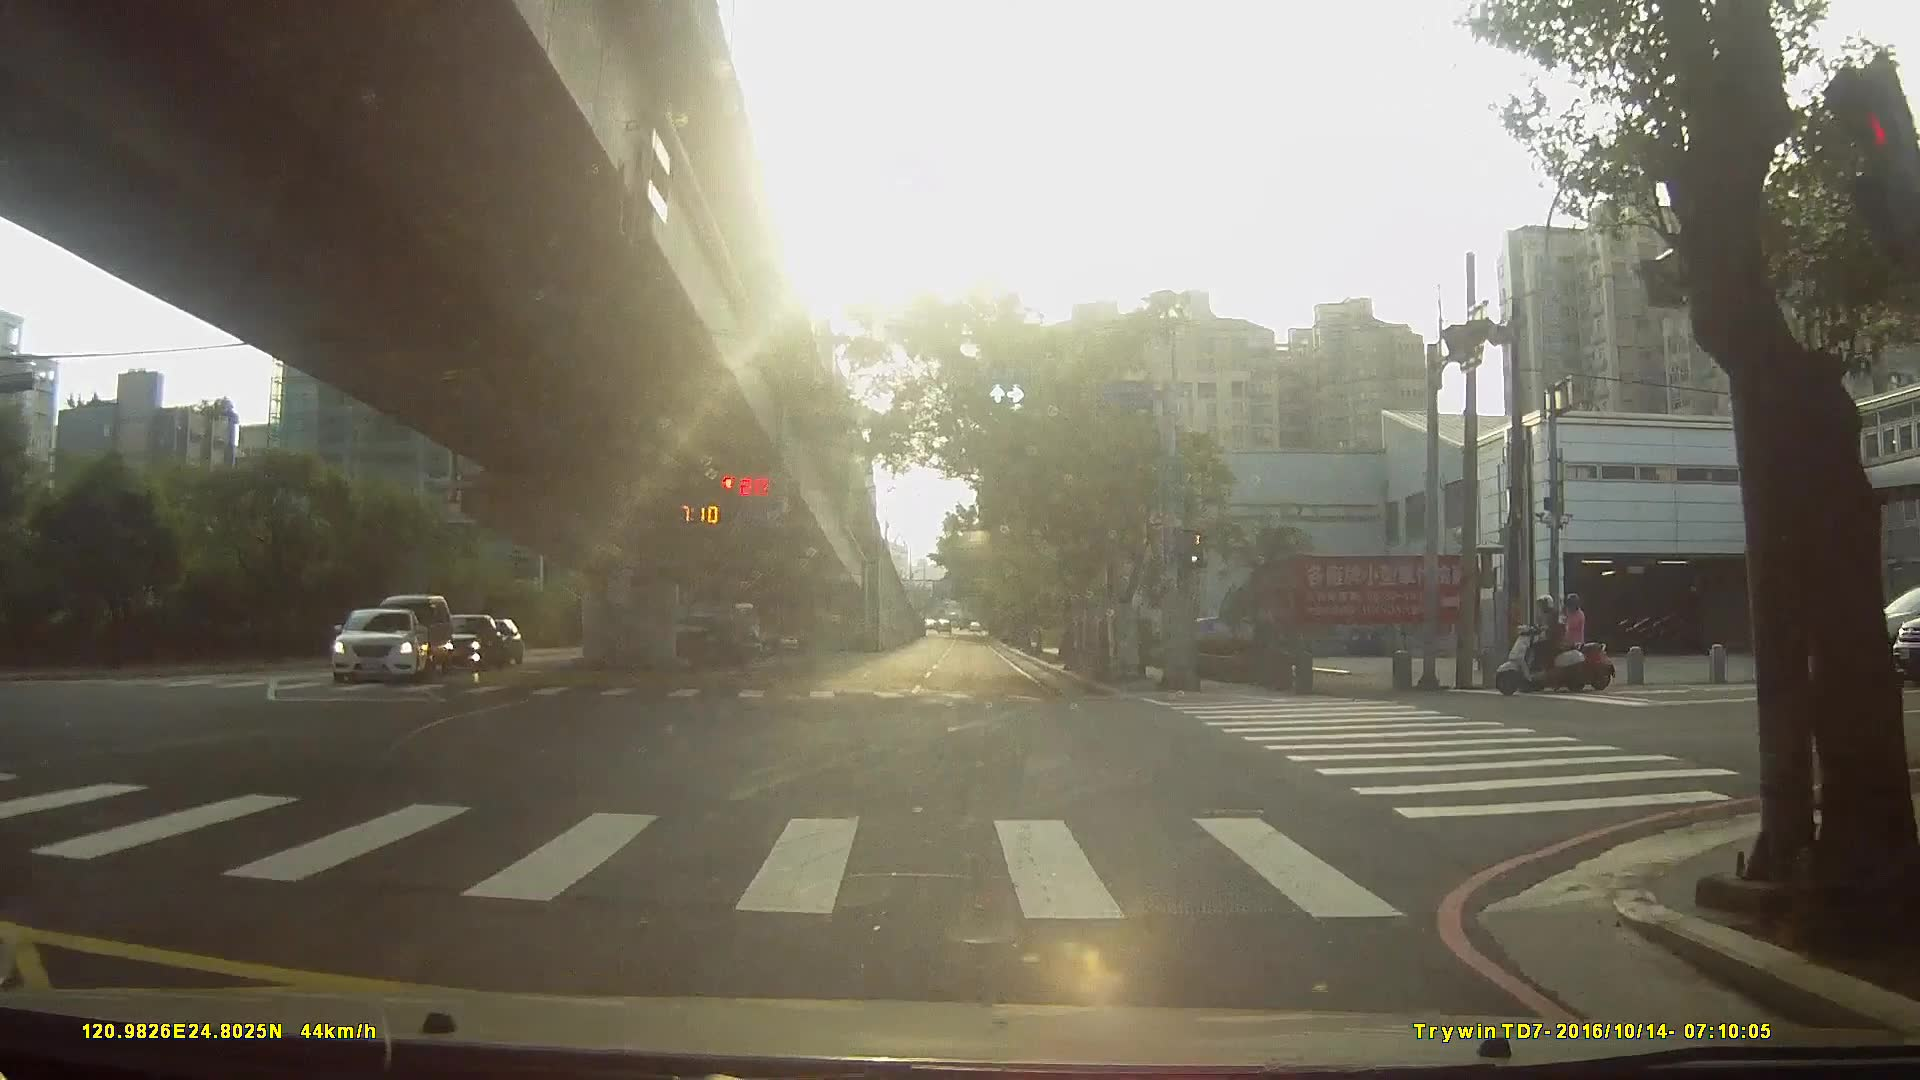rider: (1493, 592, 1587, 693)
vehicle: (321, 607, 422, 687), (1832, 597, 1920, 684), (647, 613, 758, 674), (425, 612, 503, 669)
